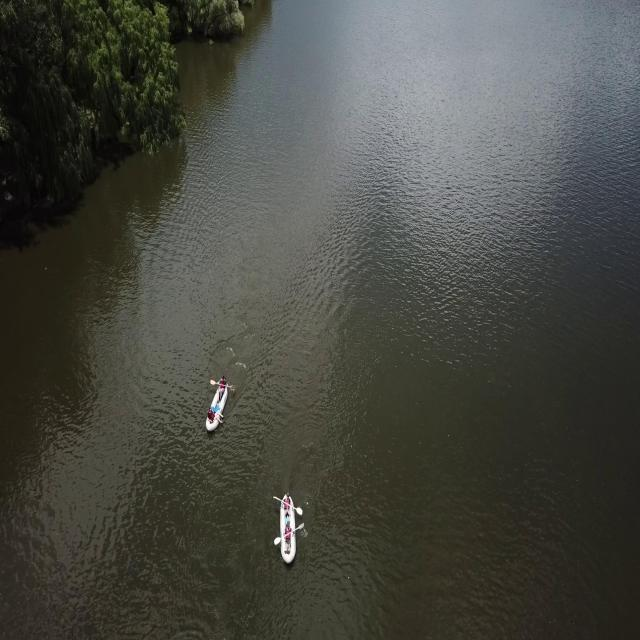kayak: (272, 491, 306, 566), (204, 376, 234, 433)
